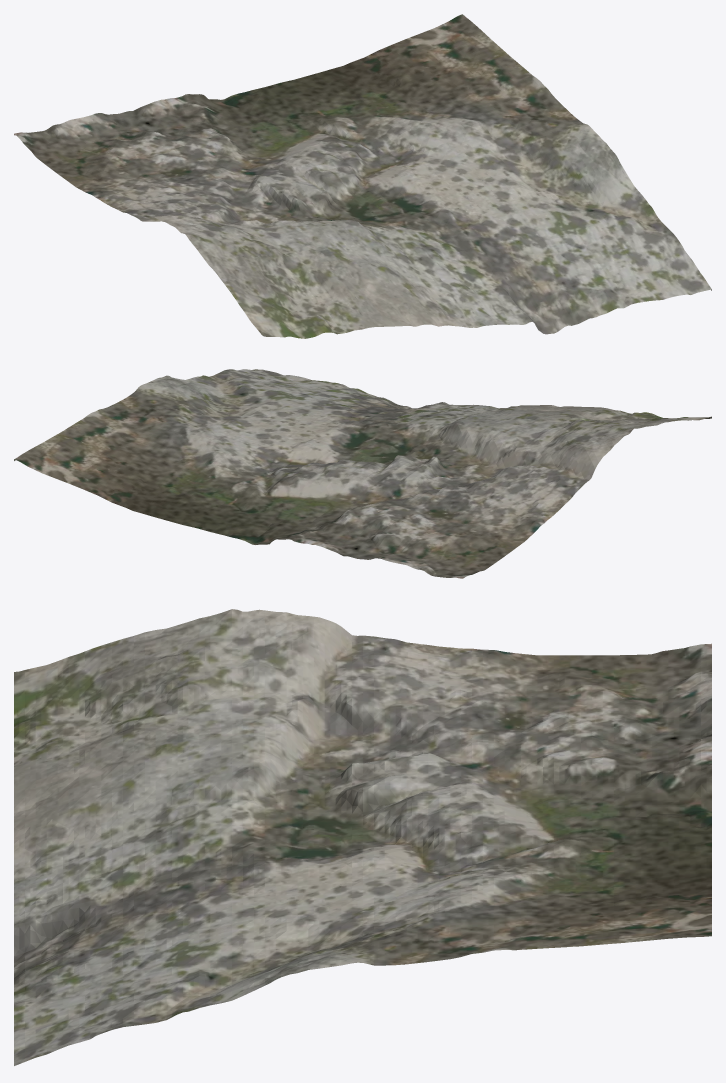
3 views of the same model, one above another, from view 1: azimuth 30°, elevation 25°; view 2: azimuth 150°, elevation 25°; view 3: azimuth 270°, elevation 25° (orthographic). The views are drawn at different scales.
Bounding box in the file's own units: 250 × 61.29 × 241.
Materials: 1 (1 with a texture image).
